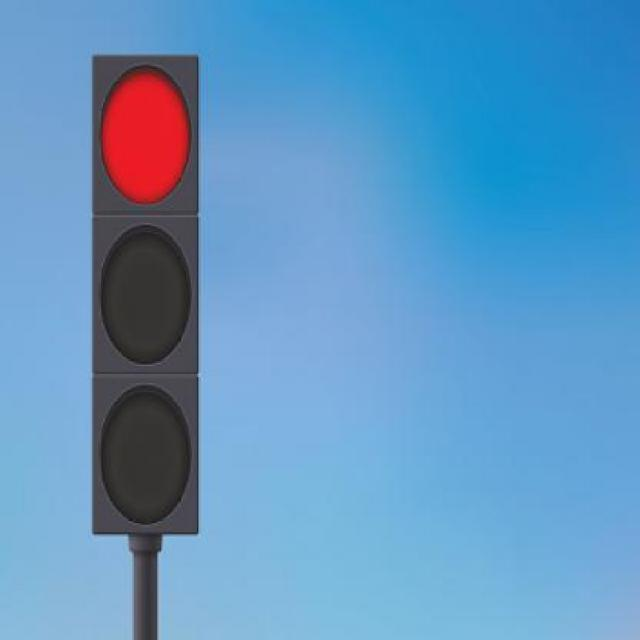traffic light: (90, 55, 202, 537)
